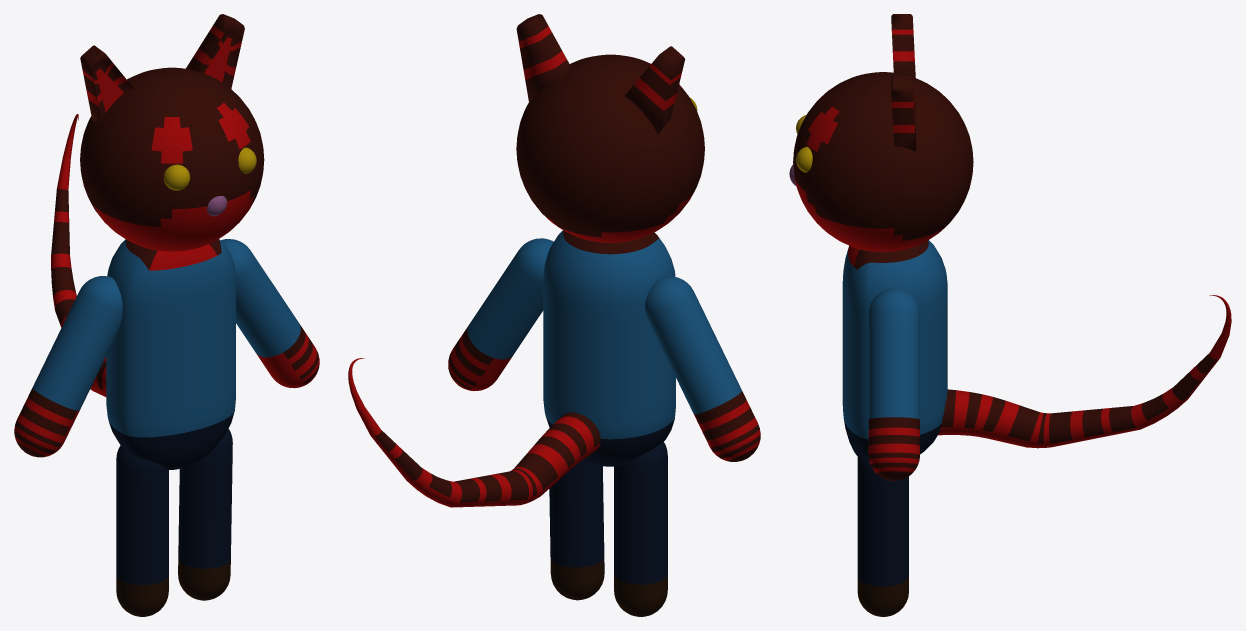
File: nomsi_base.fbx
3 renders of one model, left to right at view 1: azimuth 30°, elevation 25°; view 2: azimuth 150°, elevation 25°; view 3: azimuth 270°, elevation 25°, orthographic. The views are drawn at different scales.
Parts seen in each view (by area): view 1: body, head, larm, lleg, rleg, rarm, Cube, tail, eyes; view 2: head, body, larm, tail, lleg, rarm, rleg, Cube; view 3: head, body, tail, rarm, rleg, Cube.
Boxes of the visible parts, left/top/right/bottom form: body: left=106, top=239, right=235, bottom=469; head: left=80, top=67, right=264, bottom=251; larm: left=14, top=276, right=122, bottom=457; lleg: left=116, top=445, right=168, bottom=616; rleg: left=178, top=429, right=232, bottom=600; rarm: left=221, top=239, right=319, bottom=388; Cube: left=80, top=14, right=244, bottom=122; tail: left=51, top=114, right=106, bottom=396; eyes: left=163, top=147, right=256, bottom=190; head: left=516, top=54, right=704, bottom=242; body: left=543, top=230, right=675, bottom=466; larm: left=645, top=276, right=760, bottom=461; tail: left=348, top=358, right=600, bottom=507; lleg: left=614, top=442, right=667, bottom=616; rarm: left=448, top=238, right=553, bottom=390; rleg: left=549, top=460, right=604, bottom=600; Cube: left=516, top=14, right=685, bottom=134; head: left=793, top=72, right=973, bottom=252; body: left=842, top=240, right=947, bottom=456; tail: left=938, top=295, right=1231, bottom=448; rarm: left=868, top=288, right=919, bottom=480; rleg: left=857, top=455, right=908, bottom=616; Cube: left=891, top=14, right=916, bottom=151.
Bounding box in the file's own units: 262 × 475 × 343.
